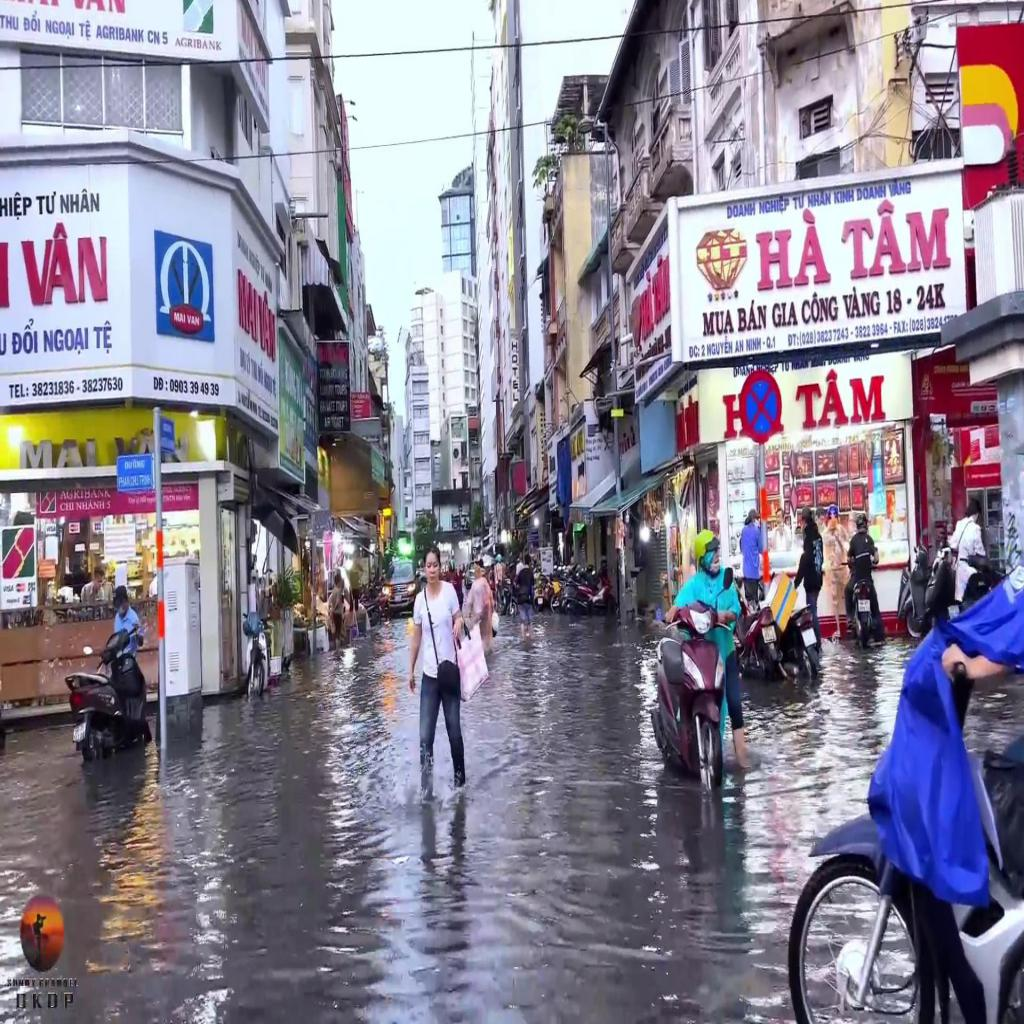cam_dung_xe_va_do_xe: (740, 370, 781, 440)
